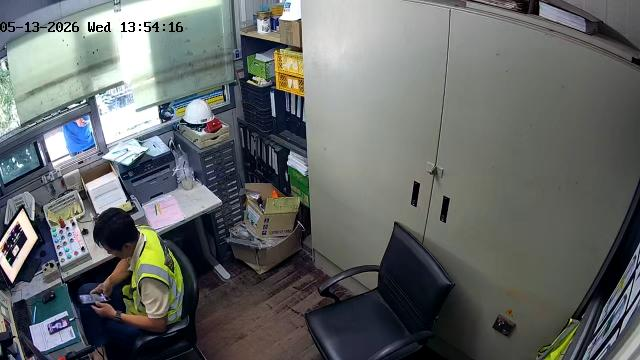Head: (93, 208, 138, 258)
People: (79, 208, 183, 358)
Phone: (48, 316, 70, 333), (78, 294, 108, 304)
